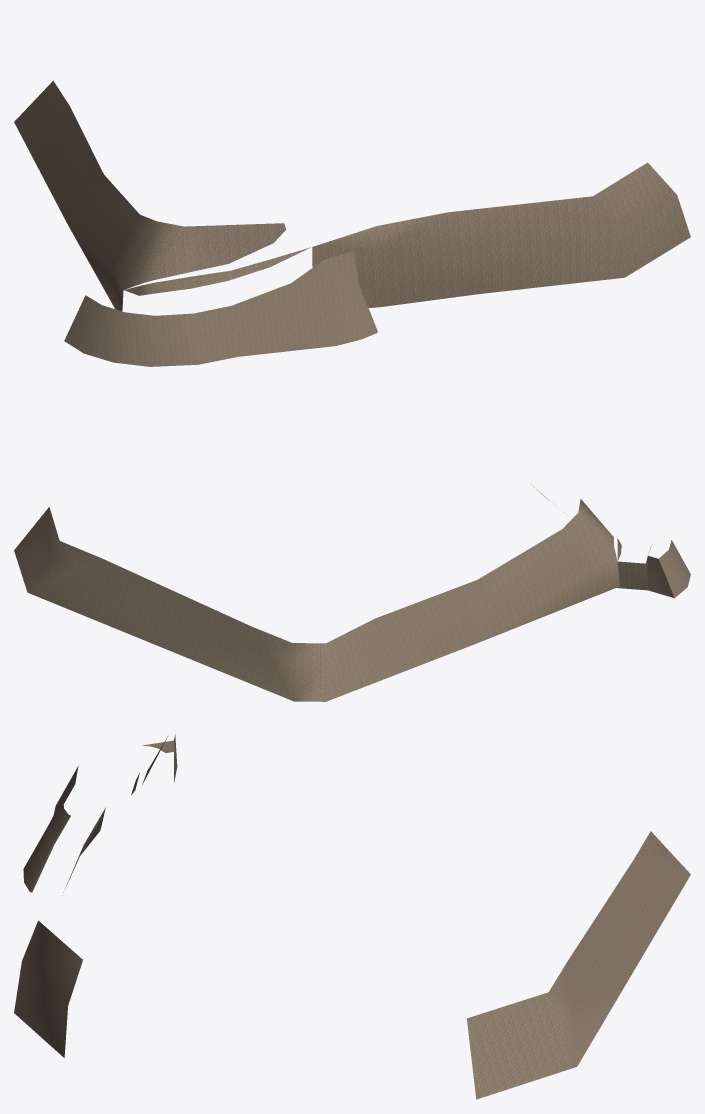
Rendered from kd_stage_1364a3_7_8.glb.
3 renders of one model, top to bottom at view 1: azimuth 30°, elevation 25°; view 2: azimuth 150°, elevation 25°; view 3: azimuth 270°, elevation 25°, orthographic. The views are drawn at different scales.
Visible parts, largest first — view 1: kd_stage_1364a3_7_8; view 2: kd_stage_1364a3_7_8; view 3: kd_stage_1364a3_7_8.
Boxes of the visible parts, x1,y1,x2,y2 form: kd_stage_1364a3_7_8: (14, 80, 690, 366); kd_stage_1364a3_7_8: (14, 484, 690, 701); kd_stage_1364a3_7_8: (14, 734, 690, 1099).
Size of the model in its own units: 421 by 54.82 by 360.
Materials: 1 (1 with a texture image).
